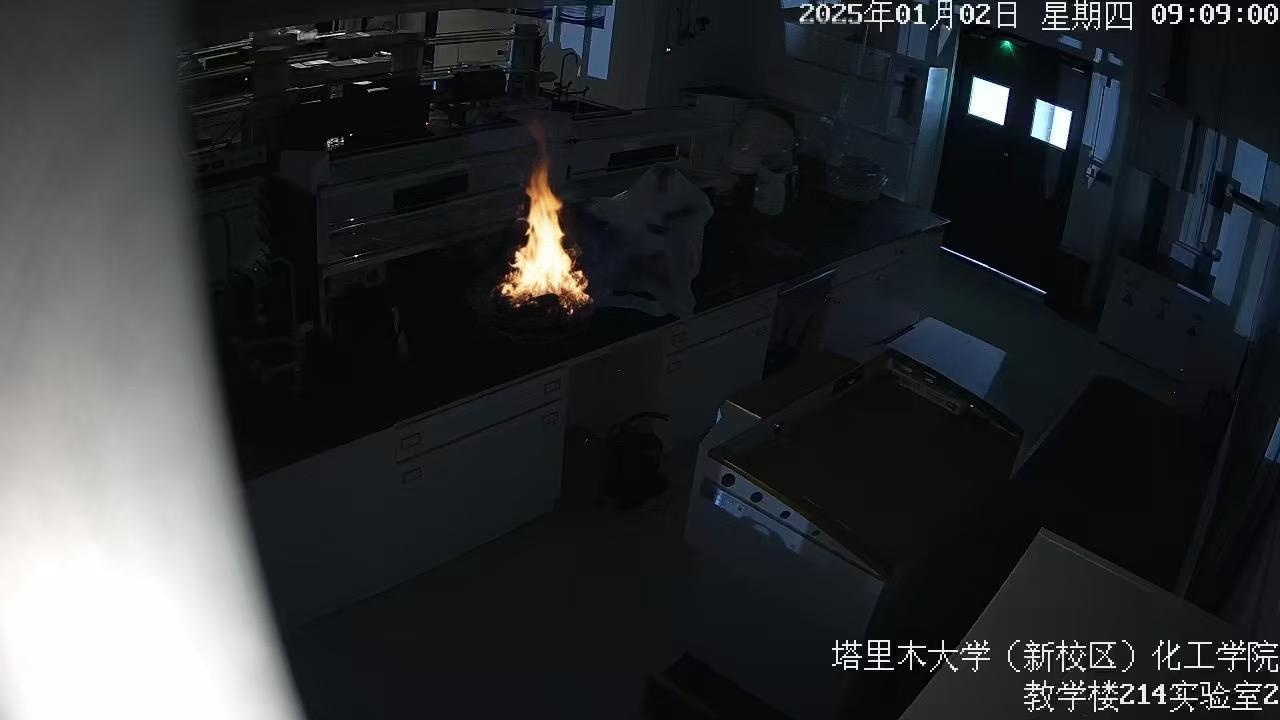fire: (492, 137, 625, 358)
